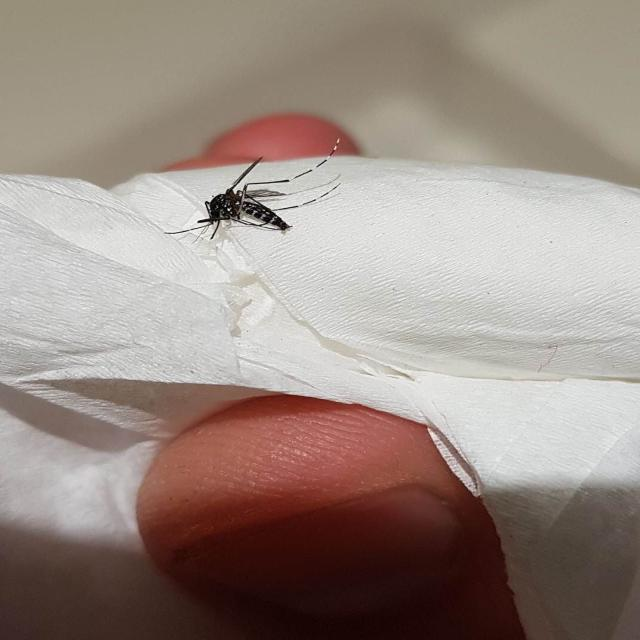albopictus: (162, 131, 340, 253)
